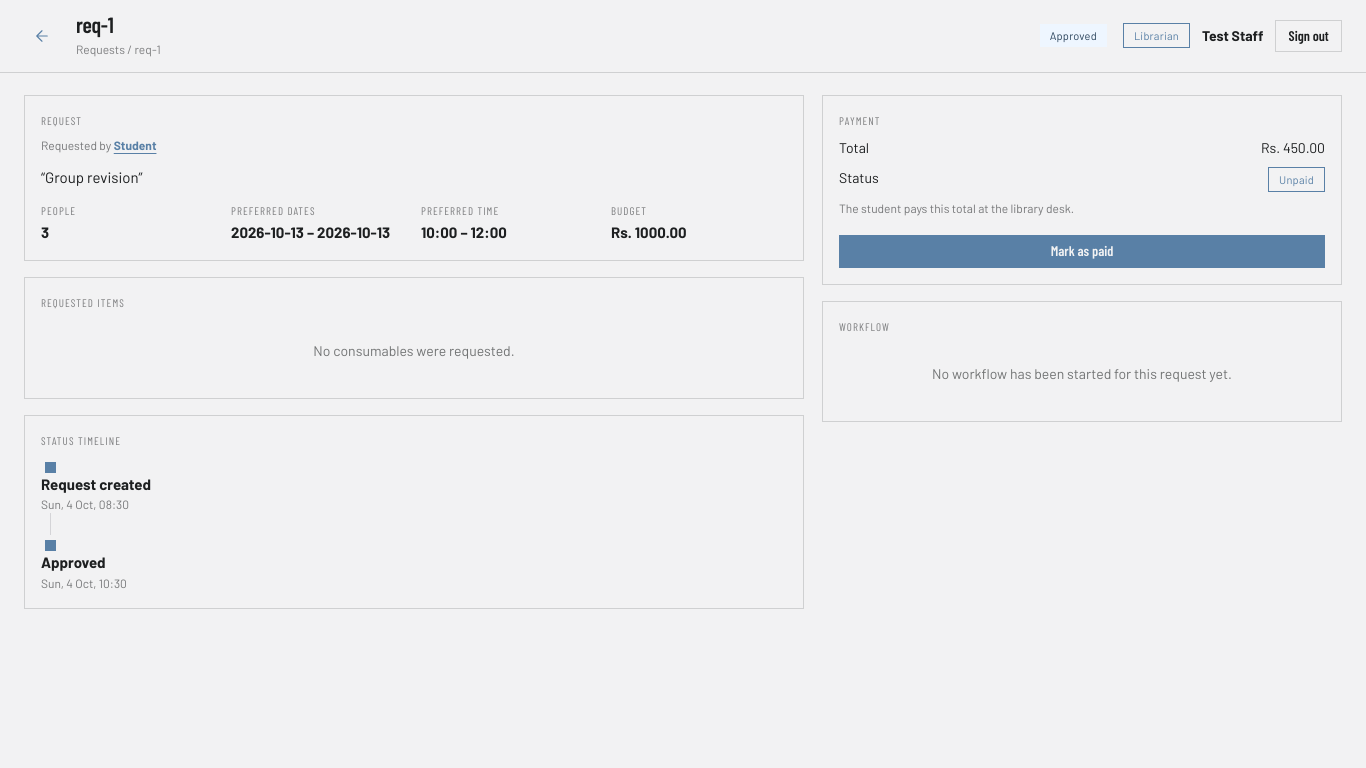
Scenario: PLAN.md 3.3 payment › shows a conflict from the API inside the dialog
Step 1. Click the button "Mark as paid" → (1082, 251), box [839,235,1325,268]
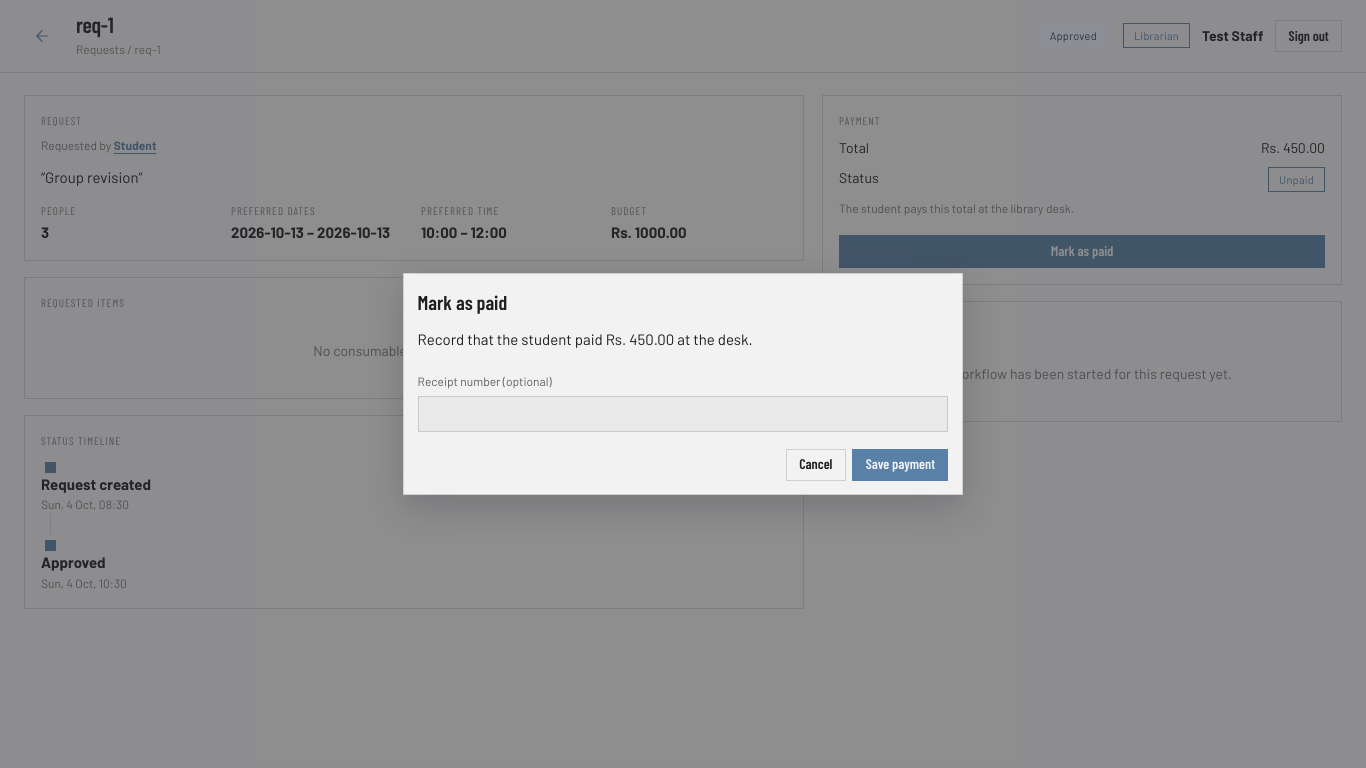
Step 2. Click the button "Save payment" → (900, 465), box [852,448,948,481]
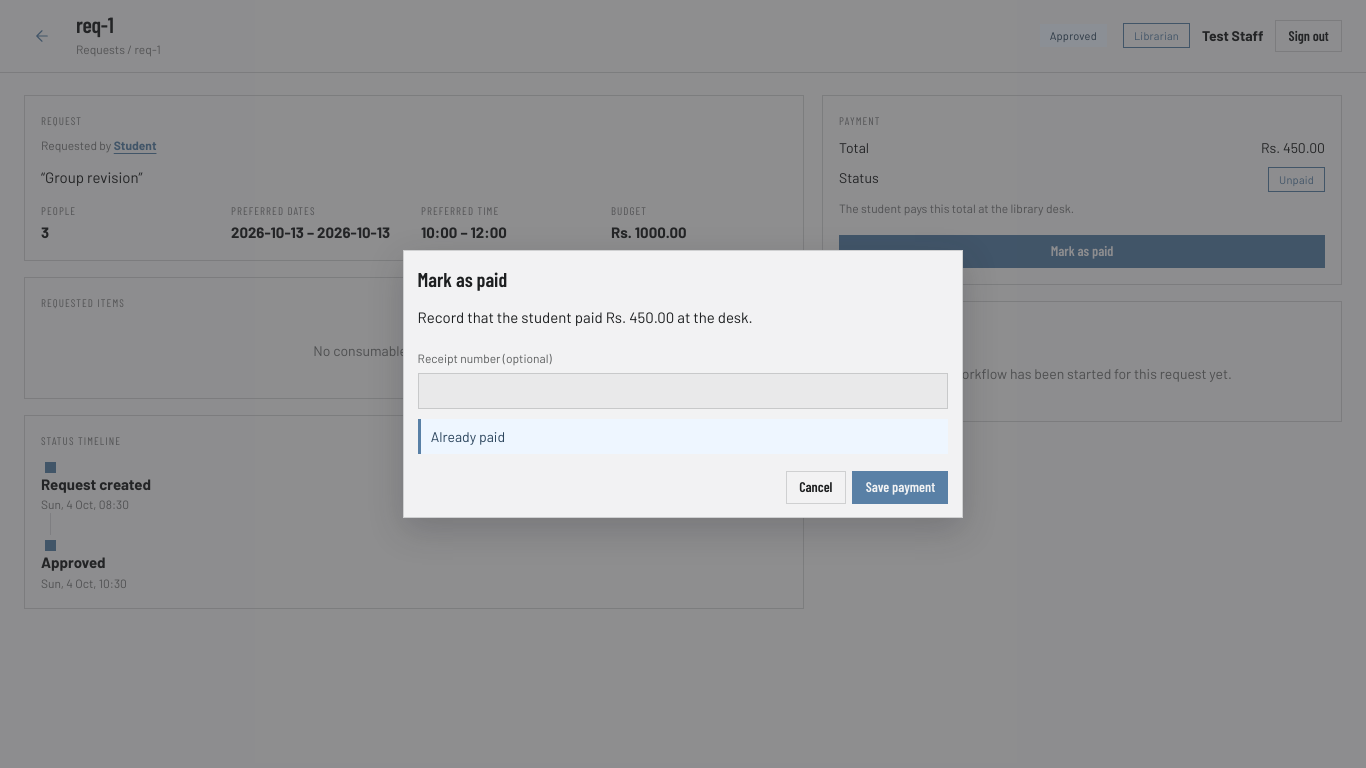
Now the message "Already paid" is shown, box [418,419,948,454]
